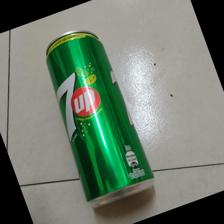7up: (45, 29, 157, 211)
